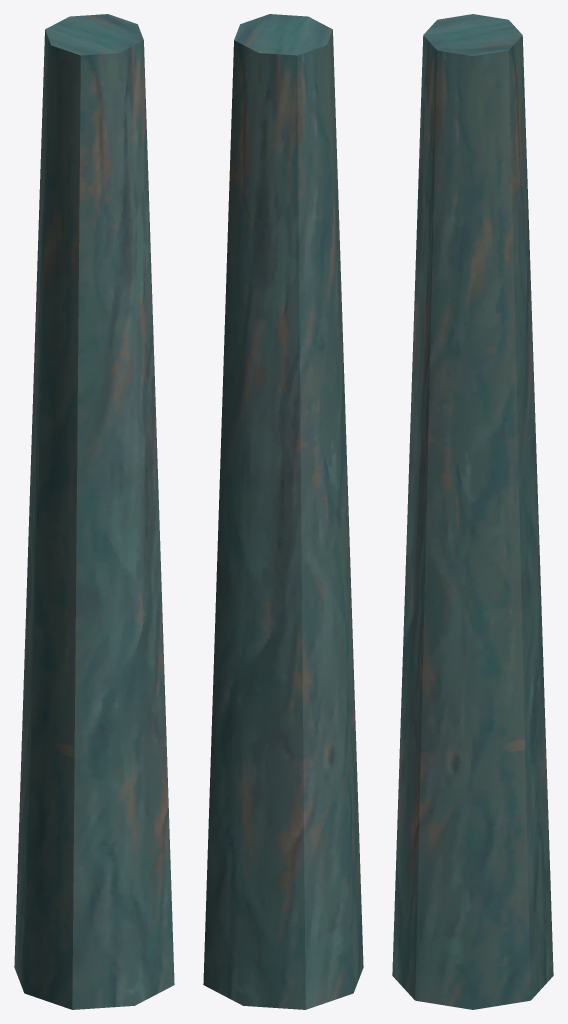
Rendered from Homeworld_Exterior_Common_Flower_Decoration_Green_03_C_Lod0.fbx.
The picture shows the model from 3 angles, left to right: view 1: azimuth 30°, elevation 25°; view 2: azimuth 150°, elevation 25°; view 3: azimuth 270°, elevation 25°; orthographic projection.
Visible parts, largest first — view 1: Homeworld_Exterior_Common_Flower_Decoration_Green_03_C_Lod0; view 2: Homeworld_Exterior_Common_Flower_Decoration_Green_03_C_Lod0; view 3: Homeworld_Exterior_Common_Flower_Decoration_Green_03_C_Lod0.
Part boxes in pixels (box(x1,y1,x2,y2)): Homeworld_Exterior_Common_Flower_Decoration_Green_03_C_Lod0: box(14, 14, 174, 1009); Homeworld_Exterior_Common_Flower_Decoration_Green_03_C_Lod0: box(203, 14, 363, 1009); Homeworld_Exterior_Common_Flower_Decoration_Green_03_C_Lod0: box(392, 14, 553, 1009).
Size of the model in its own units: 0.1671 by 1.07 by 0.1664.
